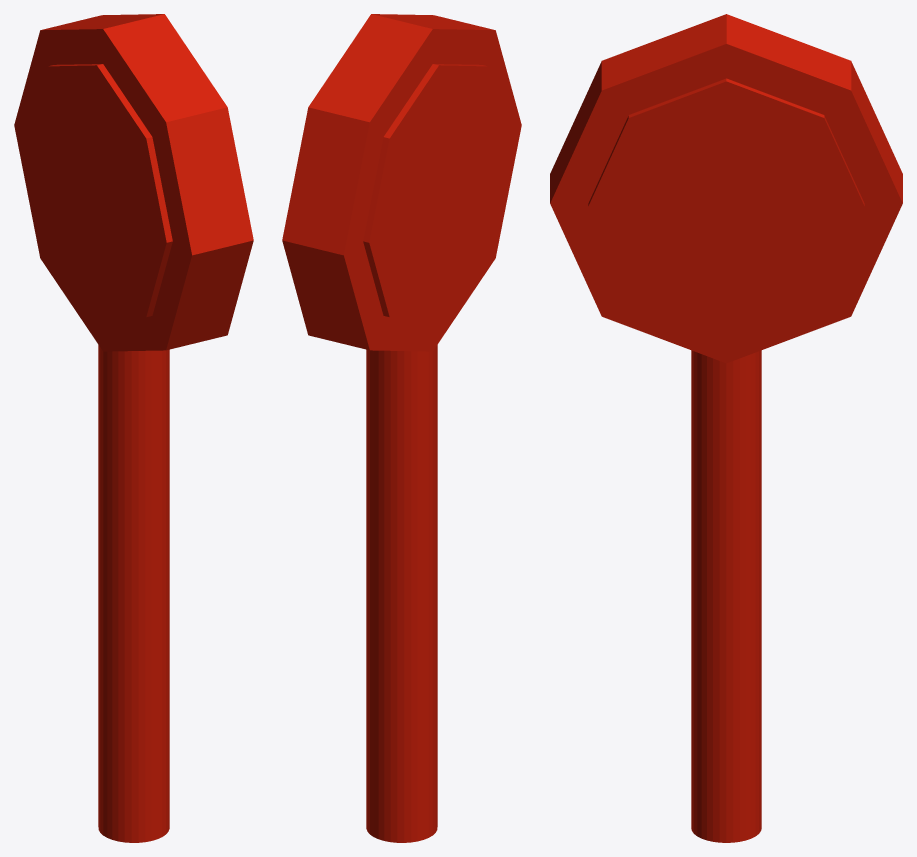
File: stopsign.fbx
3 renders of one model, left to right at view 1: azimuth 30°, elevation 25°; view 2: azimuth 150°, elevation 25°; view 3: azimuth 270°, elevation 25°, orthographic.
Visible parts, largest first — view 1: Cylinder.001; view 2: Cylinder.001; view 3: Cylinder.001.
Boxes of the visible parts, bbox=[...] form: Cylinder.001: bbox=[14, 14, 253, 842]; Cylinder.001: bbox=[282, 14, 521, 842]; Cylinder.001: bbox=[550, 14, 902, 842].
Bounding box in the file's own units: 12 × 125 × 50.
